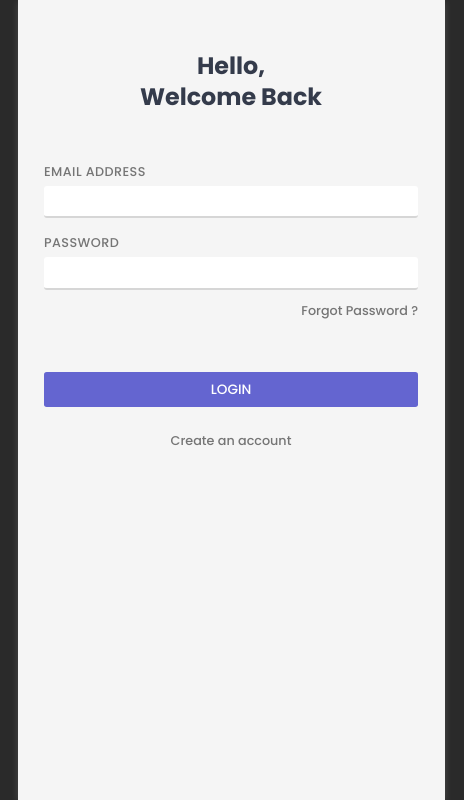
Login spec › should display homepage when email and password are correct
Type "usertesting@mail.com" into the field with id "email".
click(231, 203); type("usertesting@mail.com")  # box [44, 186, 418, 219]
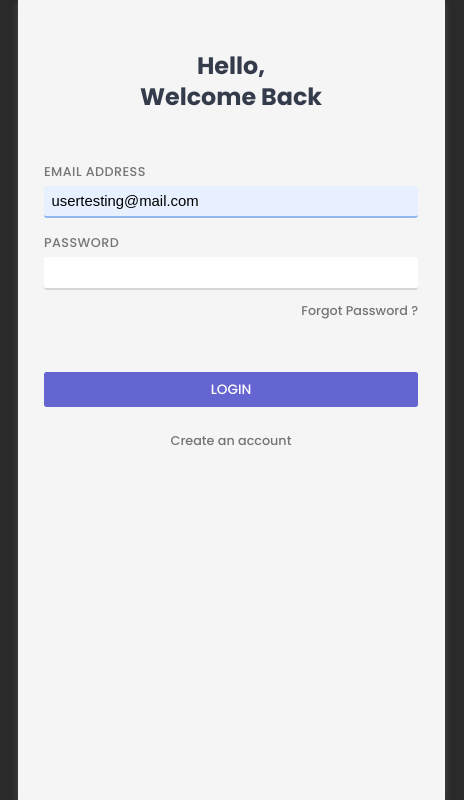
Type "usertesting" into the password field labelled "Password".
click(231, 274); type("usertesting")  # box [44, 257, 418, 290]
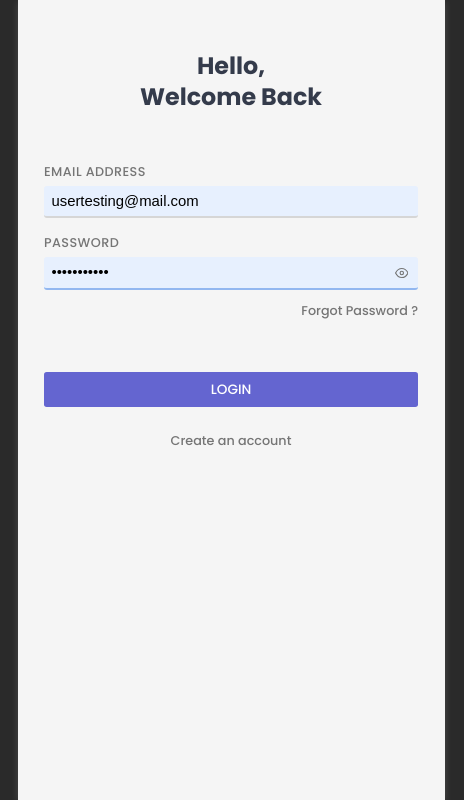
Click the button "Login".
click(231, 390)  # box [44, 372, 418, 407]
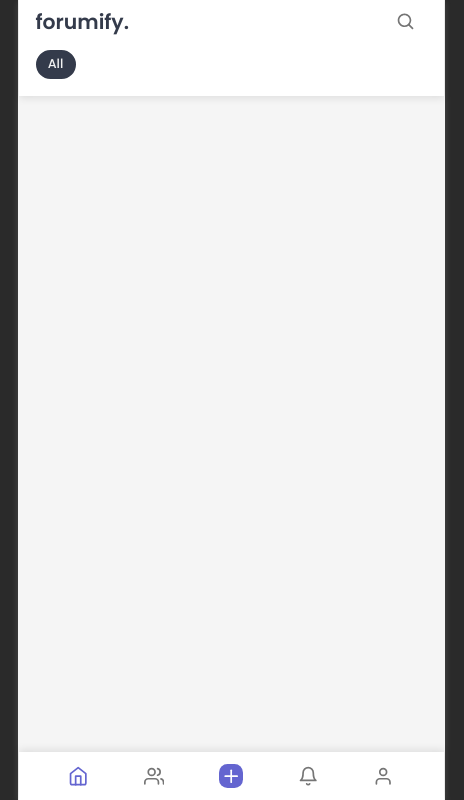
Expected: the link "forumify." is shown, [36, 9, 129, 36]
